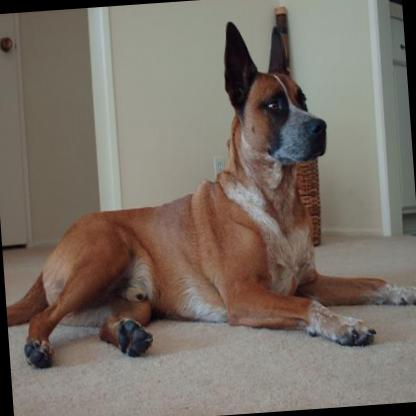dingo: (0, 6, 416, 371)
